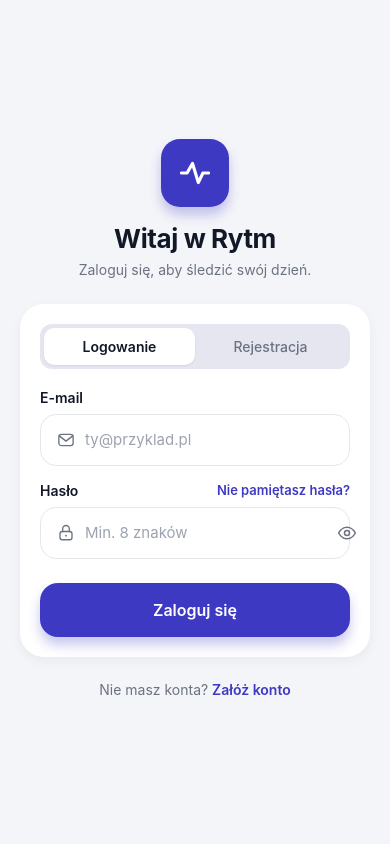
Scenario: AuthScreen › validates email and password inputs before submit
The width and height of the screenshot is (390, 844).
Click the element with test id "submit-auth-button" at (195, 610), box [40,582,350,636]
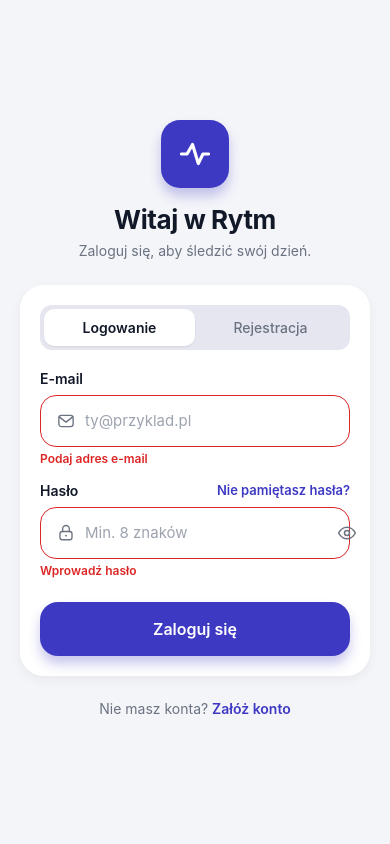
Expected: the text "Podaj adres e-mail" is shown, [40,450,148,466]
Expected: the text "Wprowadź hasło" is shown, [40,562,136,578]
Type "invalid-email" into the field with test id "email-input" at (209, 420), box [85,396,333,446]
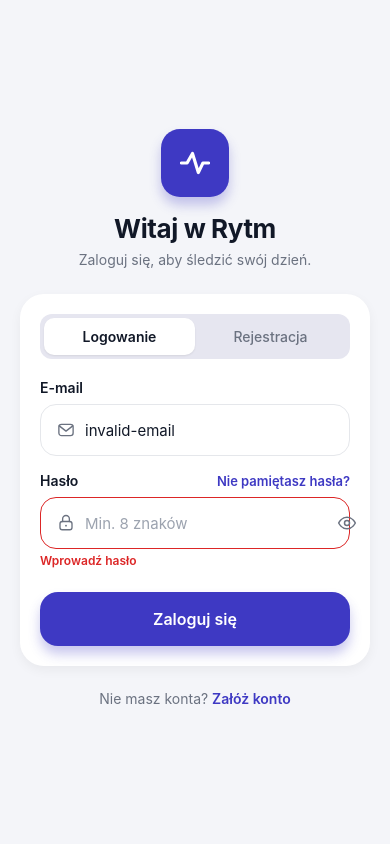
Type "12345" into the password field with test id "password-input" at (205, 523), box [85,498,325,548]
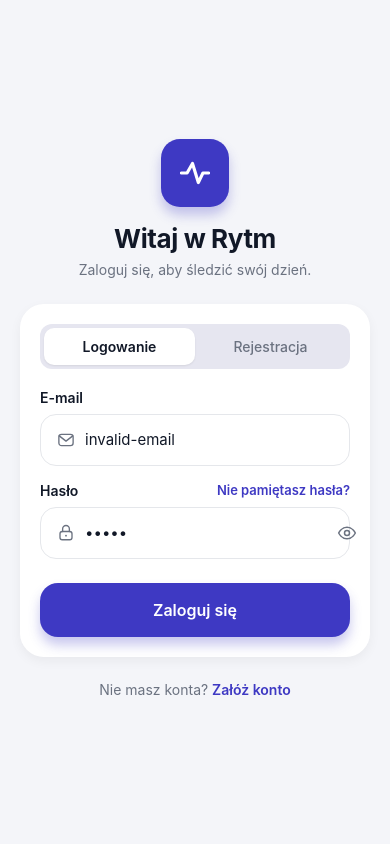
Click the element with test id "submit-auth-button" at (195, 610), box [40,582,350,636]
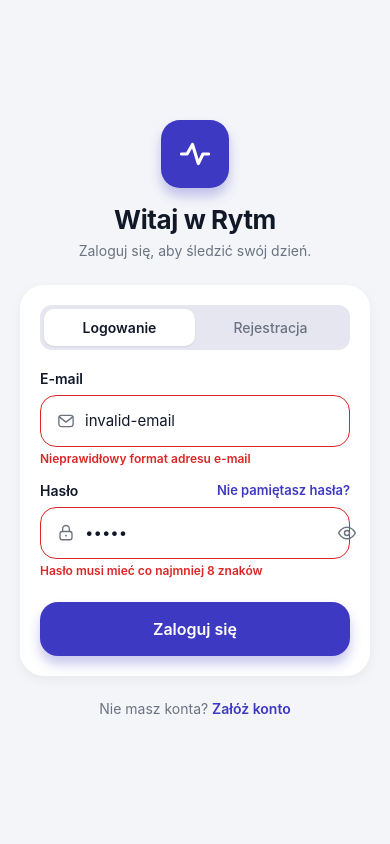
Expected: the text "Nieprawidłowy format adresu e-mail" is shown, [40,450,251,466]
Expected: the text "Hasło musi mieć co najmniej 8 znaków" is shown, [40,562,263,578]
